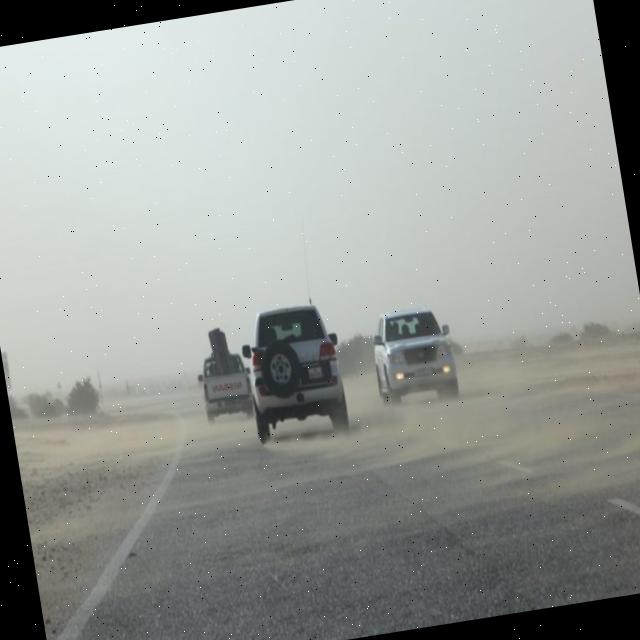bus: (192, 327, 255, 422)
car: (238, 299, 354, 446), (364, 303, 464, 409)
